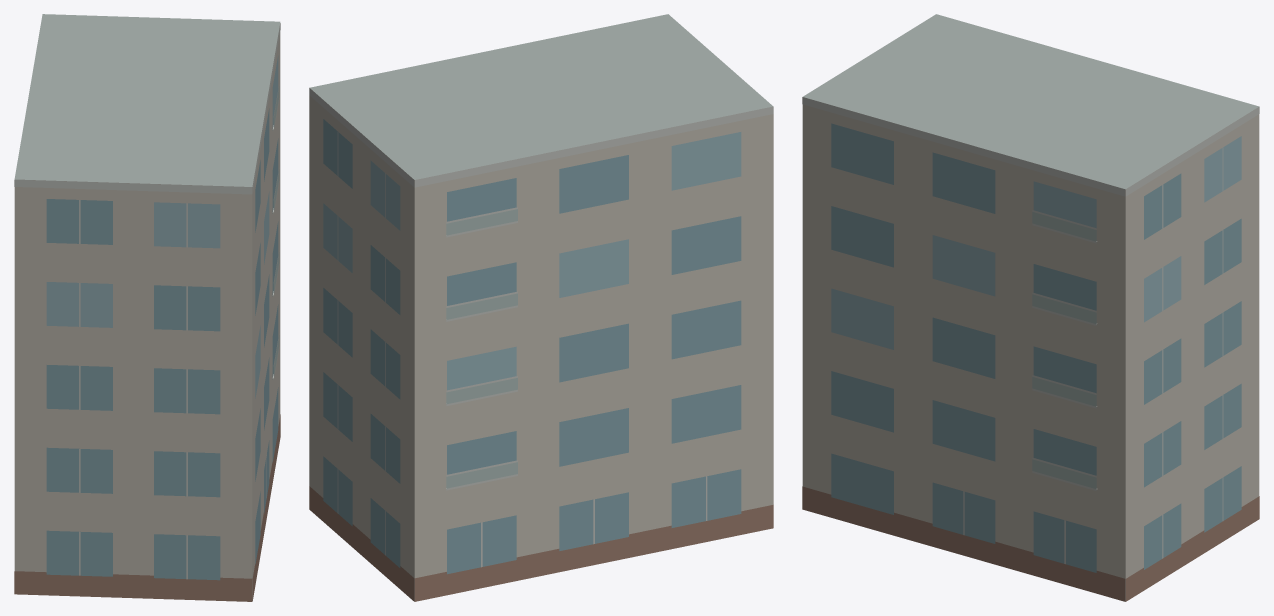
The model's file is survey-upis-32755228.glb.
The picture shows the model from 3 angles, left to right: view 1: azimuth 30°, elevation 25°; view 2: azimuth 150°, elevation 25°; view 3: azimuth 270°, elevation 25°; orthographic projection. The views are drawn at different scales.
Visible parts, largest first — view 1: survey-upis-32755228.tmp; view 2: survey-upis-32755228.tmp; view 3: survey-upis-32755228.tmp.
Boxes of the visible parts, <box> form: survey-upis-32755228.tmp: <box>14,14,280,601</box>; survey-upis-32755228.tmp: <box>309,14,773,601</box>; survey-upis-32755228.tmp: <box>802,14,1259,601</box>.
Bounding box in the file's own units: 12.4 × 13.6 × 13.66.
